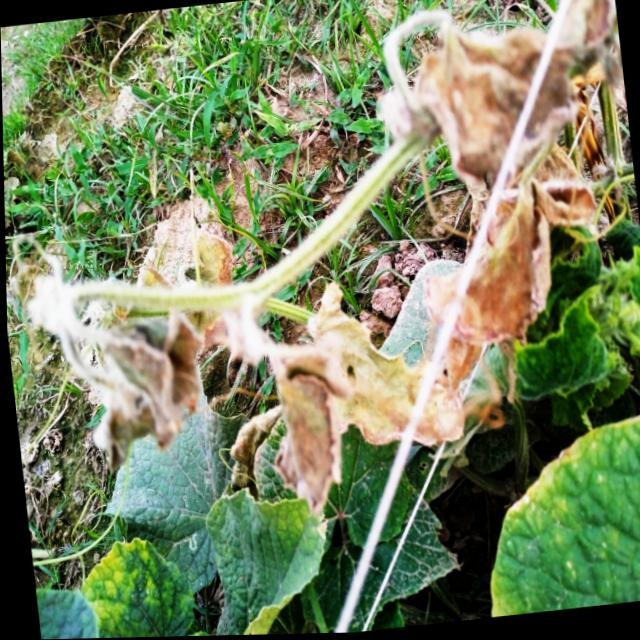Bacterial-Wilt: (411, 25, 594, 349), (270, 279, 466, 513)
